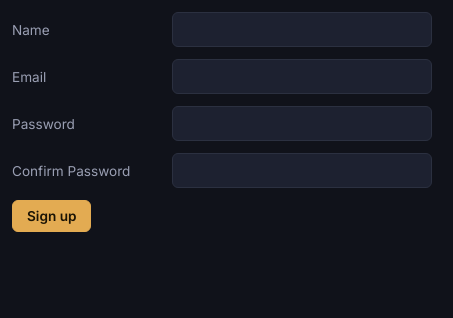
RhfSignupForm › shows the same errors as the manual form on an empty submit
Click the button "Sign up".
click(52, 216)  # box [12,200,92,232]
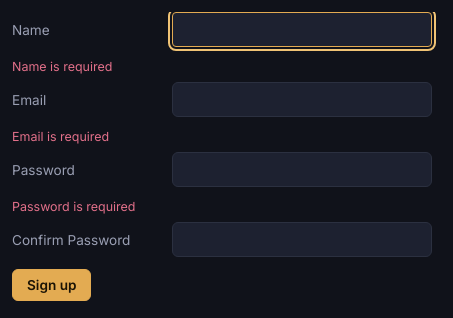
expect the text "Name is required" is shown: met, box [12,59,112,74]
expect the text "Email is required" is shown: met, box [12,129,109,144]
expect the text "Password is required" is shown: met, box [12,199,136,214]
